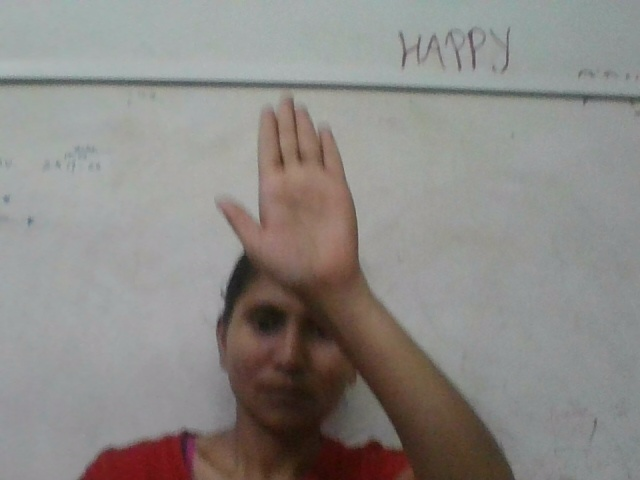Hello: (209, 92, 358, 288)
